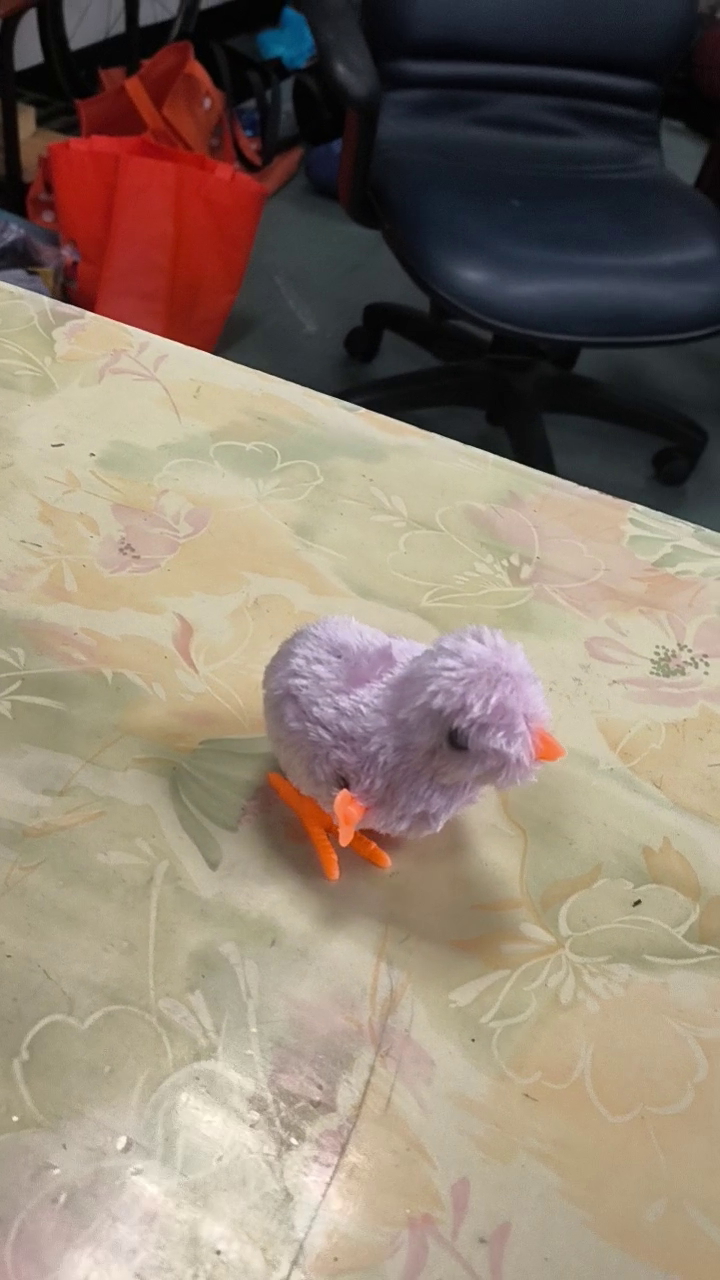pink chicken: (253, 606, 568, 885)
